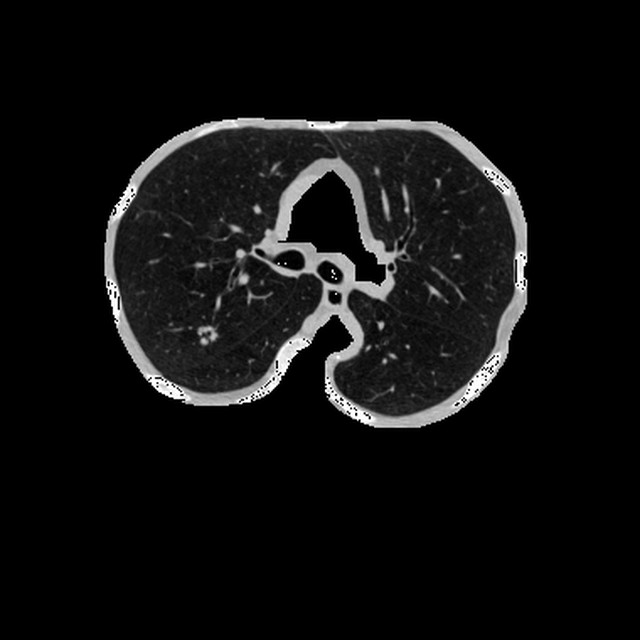PN: (199, 323, 219, 344)
